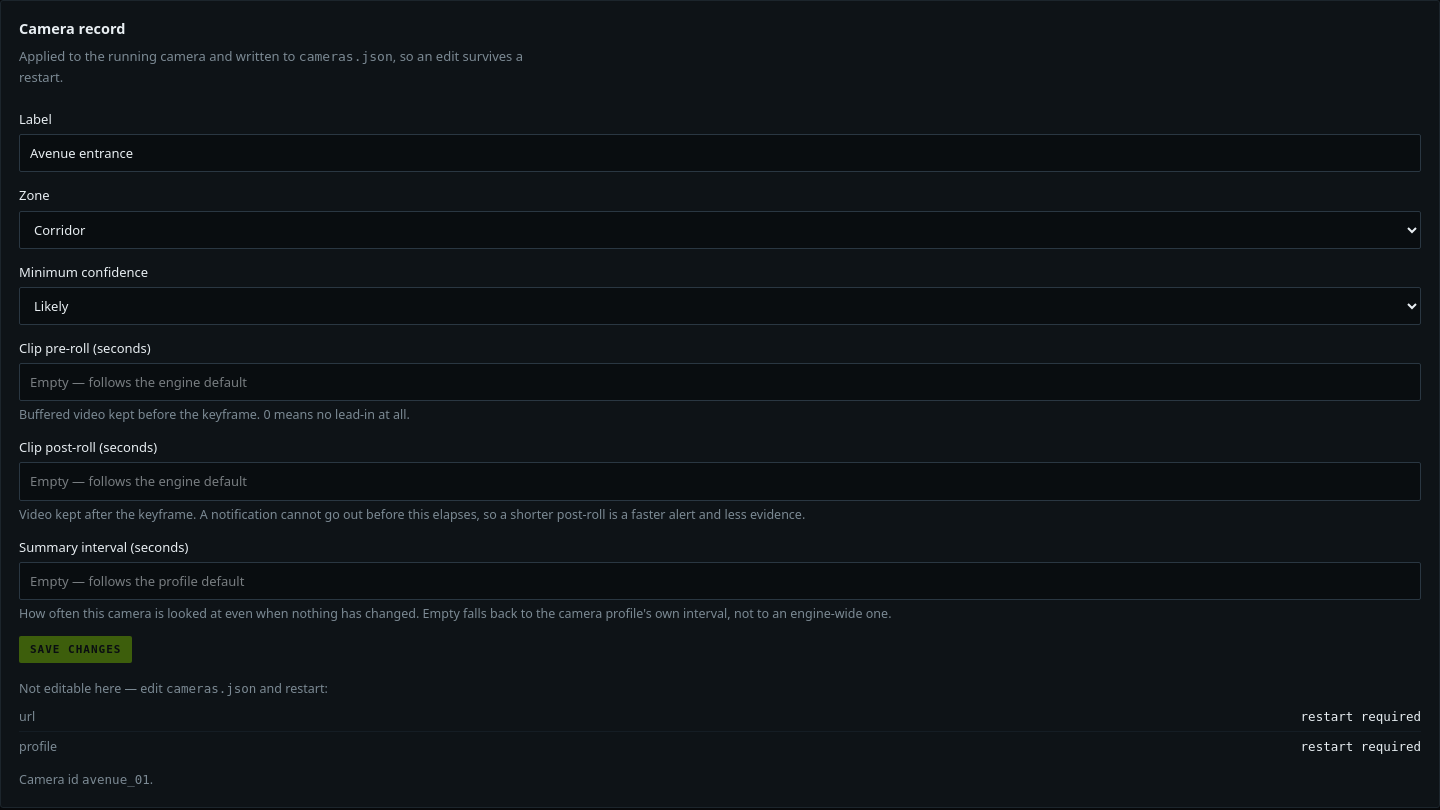
Test case: CameraRecordPanel, failures › shows the engine's own words on a 409 and does not retry
Replace the text in the field labelled "Label" with "East door" at (720, 153), box [19,134,1421,172]
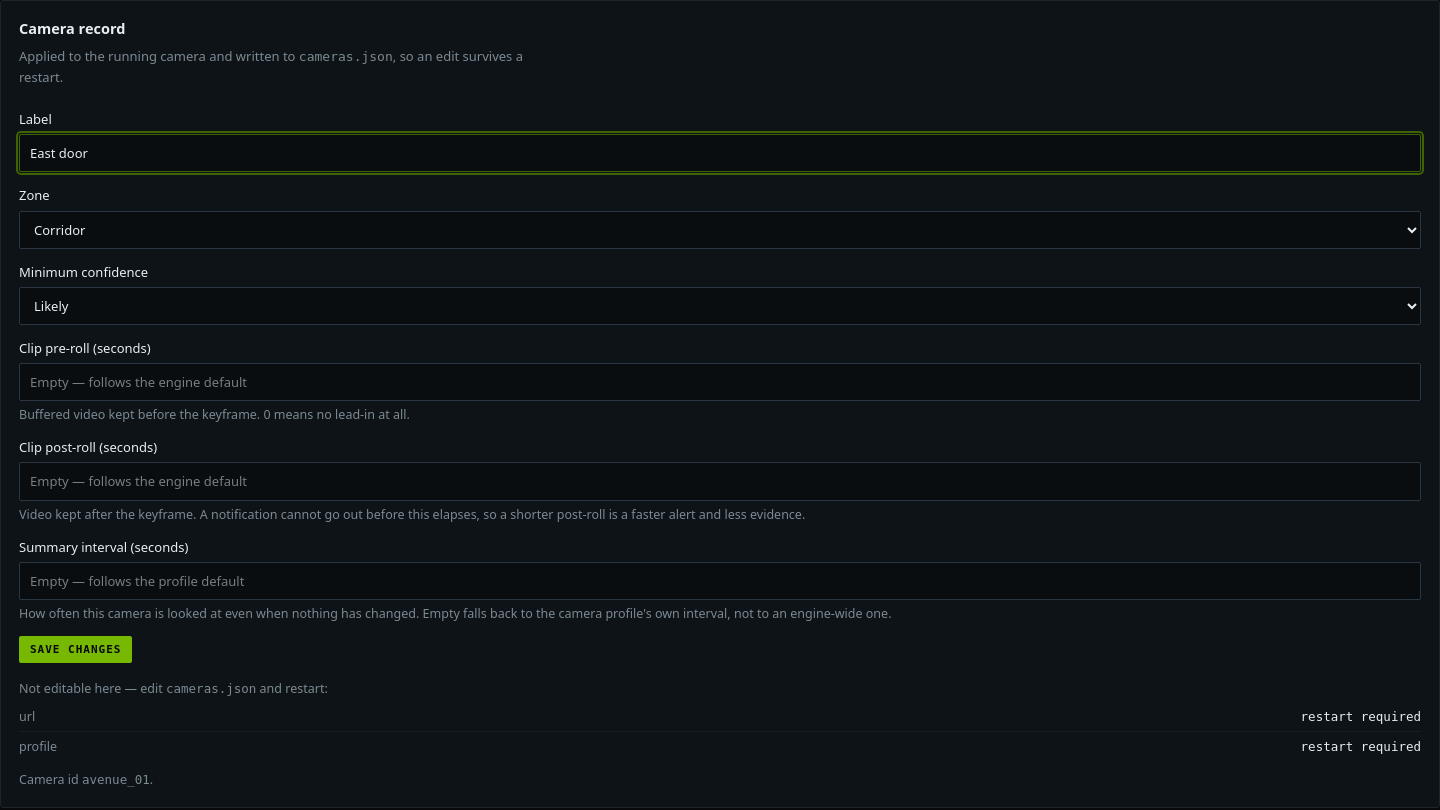
Click the button "Save changes" at (76, 649), box [19,636,132,663]
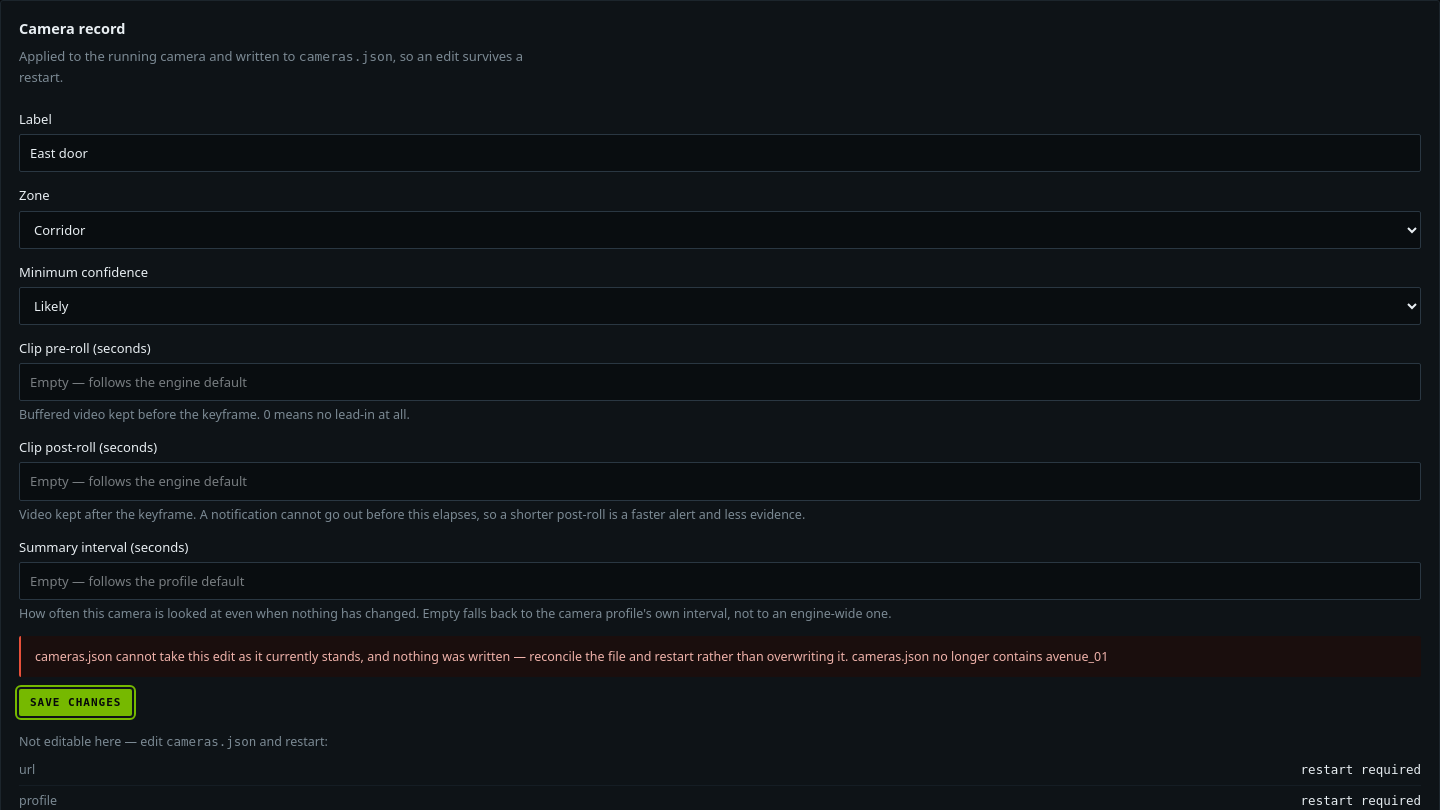
Result: the message with test id "camera-record-error" shows "cameras.json no longer contains avenue_01" at [35,648,1108,665]
Result: the message with test id "camera-record-error" shows "nothing was written" at [35,648,1108,665]
